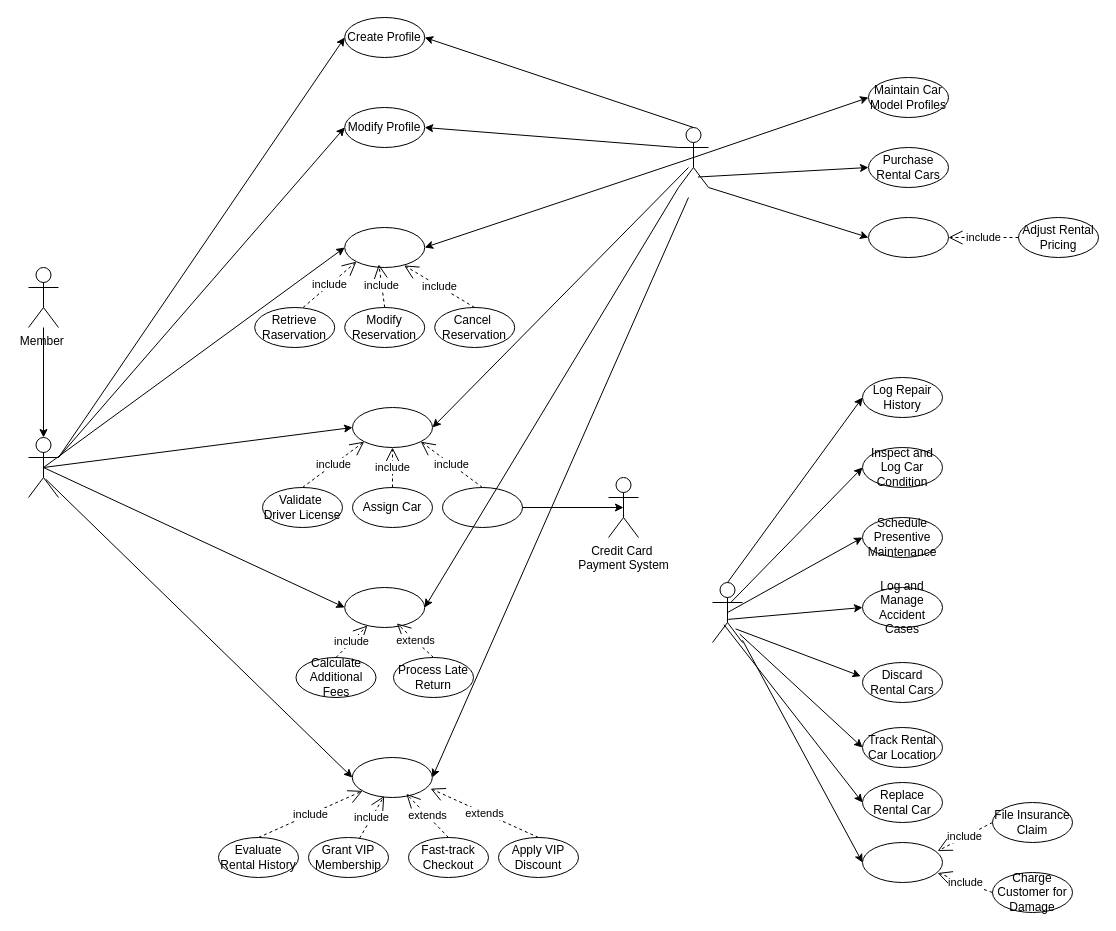
Image size: 1116x931. Some labels were removed from this diagram. Each missing label, with the centre of its shape:
Analyze Rental Trends: point (908, 237)
Become Member: point (391, 777)
Check Out: point (392, 427)
Customer: point (43, 467)
Headquarter Staff: point (693, 157)
Make a Payment: point (482, 507)
Manage Reservation: point (384, 247)
Process Car Accident: point (902, 862)
Rental Center Staff: point (727, 612)
Return Car: point (384, 607)
